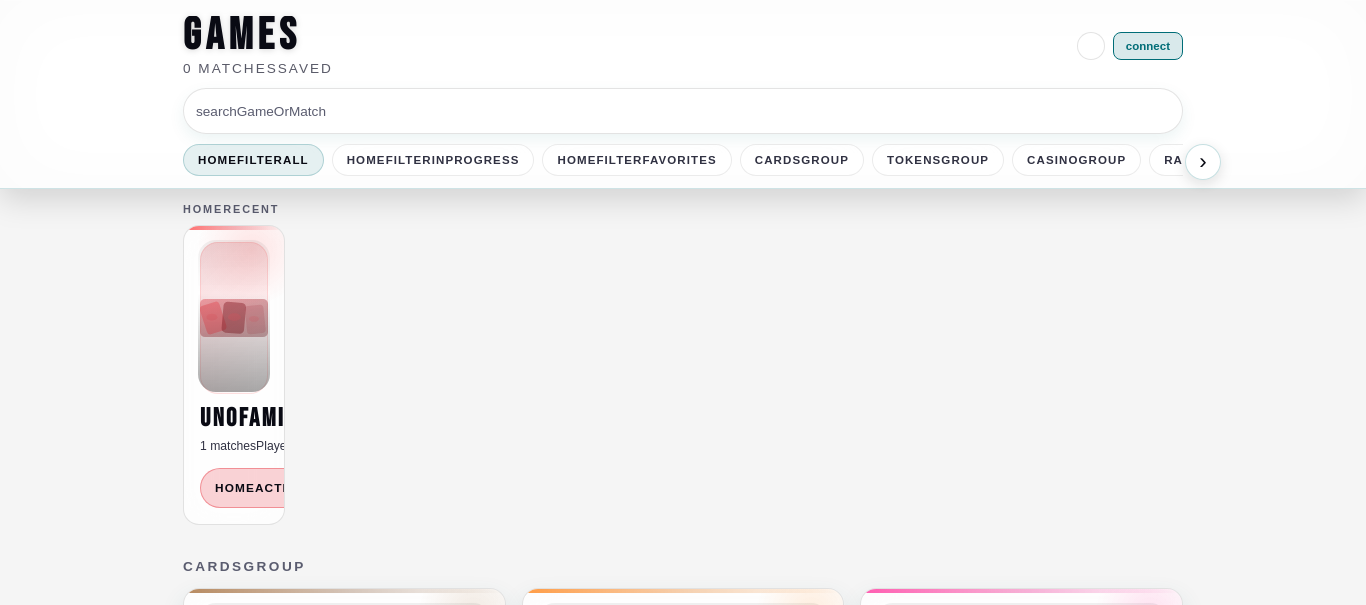
Scenario: HomeTab filter chips › removes the UNO family filter chip but keeps the catalog card
The width and height of the screenshot is (1366, 605).
Expected: the button with test id "game-uno-family" is shown, top-left (200, 242), bottom-right (268, 456)
// The generic "cards" chip still excludes the UNO family card.
Click the button "cardsGroup" at (802, 160), box top-left (740, 144), bottom-right (864, 176)
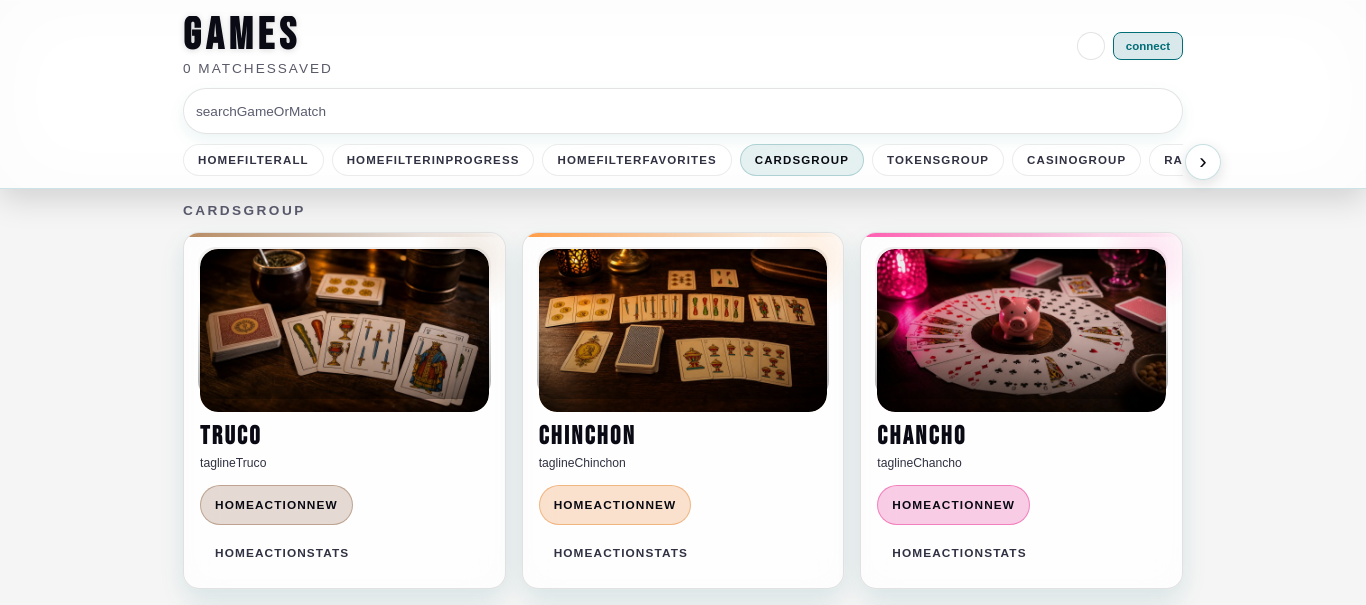
Now the button with test id "game-uno-family" is gone
